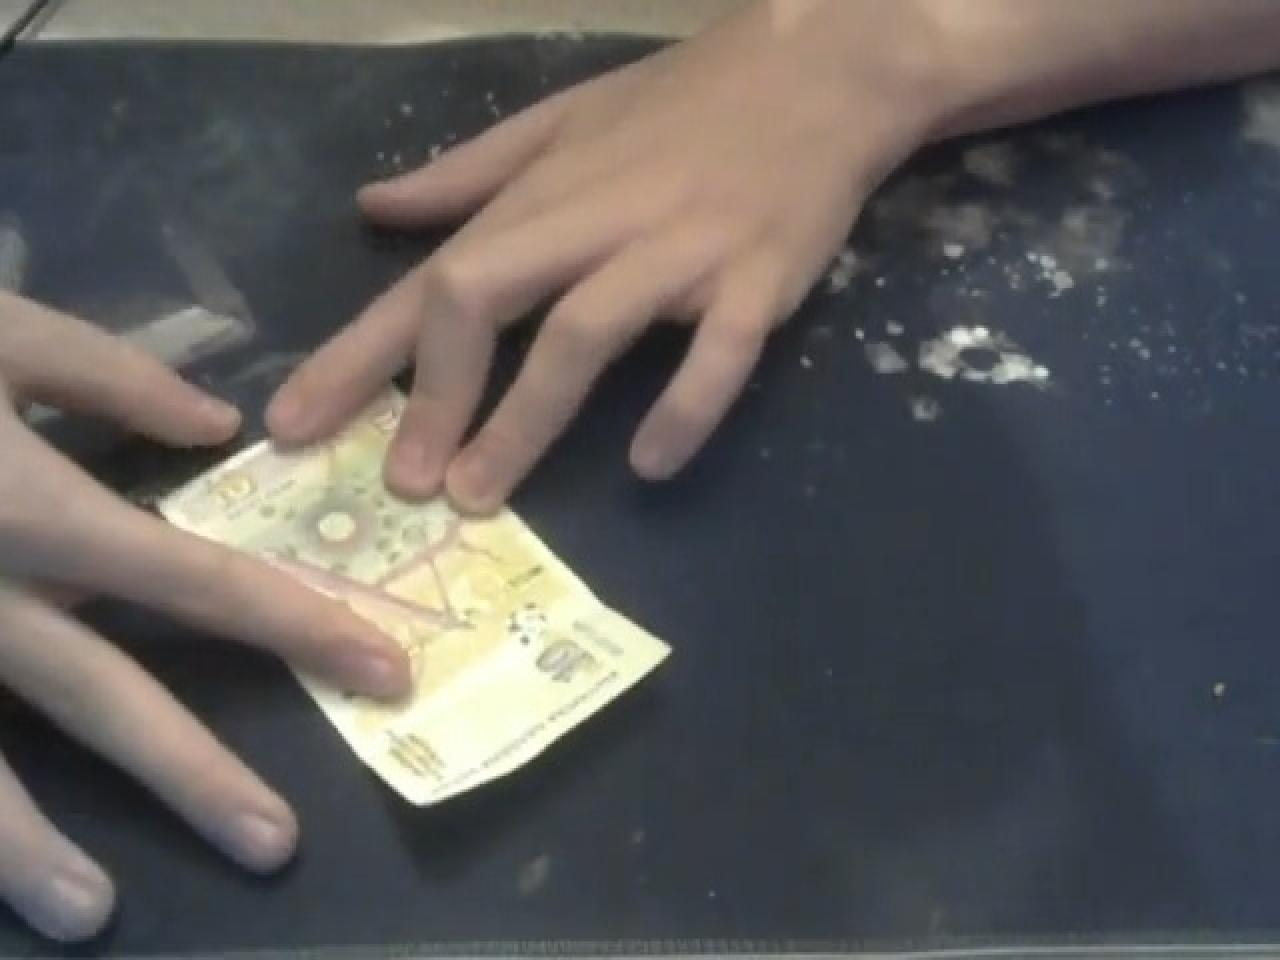10leva: (150, 392, 672, 811)
